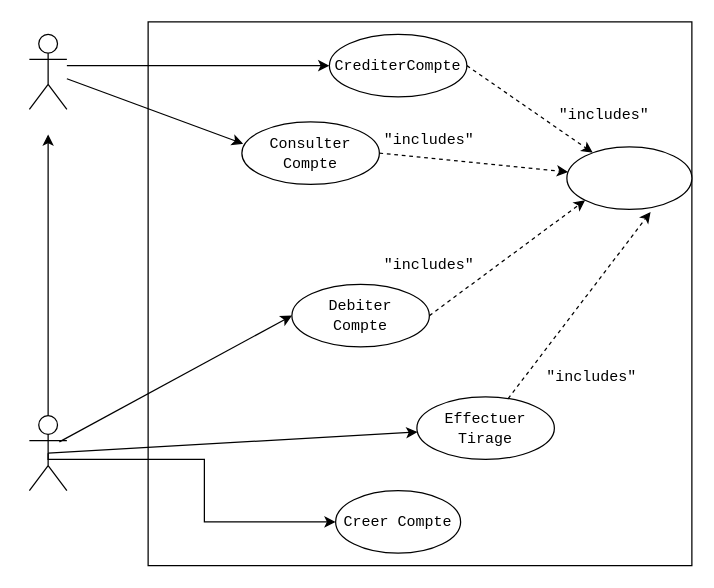
Some shapes in this 714 by 588 pixel diagram are drawn without their labels. The centre of each missing label's shape, as x and y in pixels:
"Gerant" goes at (x=47, y=452).
"Membre" goes at (x=47, y=71).
"s'identifier" goes at (x=629, y=177).
